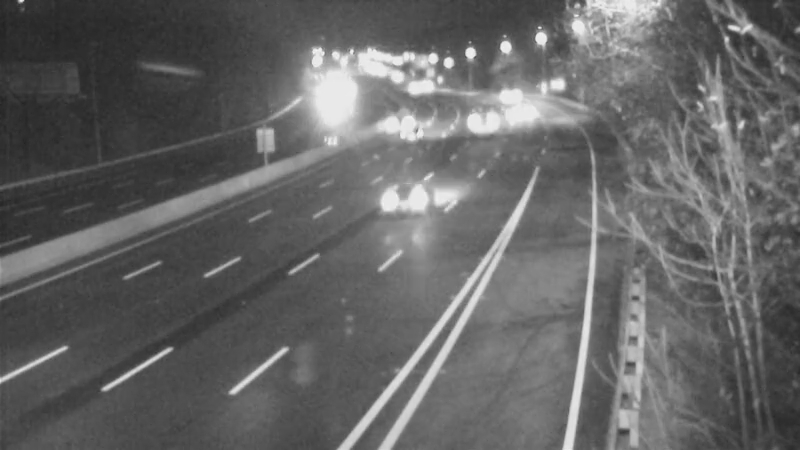vehicle: (381, 153, 461, 233), (484, 66, 534, 116), (491, 86, 541, 136), (369, 96, 419, 146), (456, 86, 506, 136), (381, 107, 431, 157)
